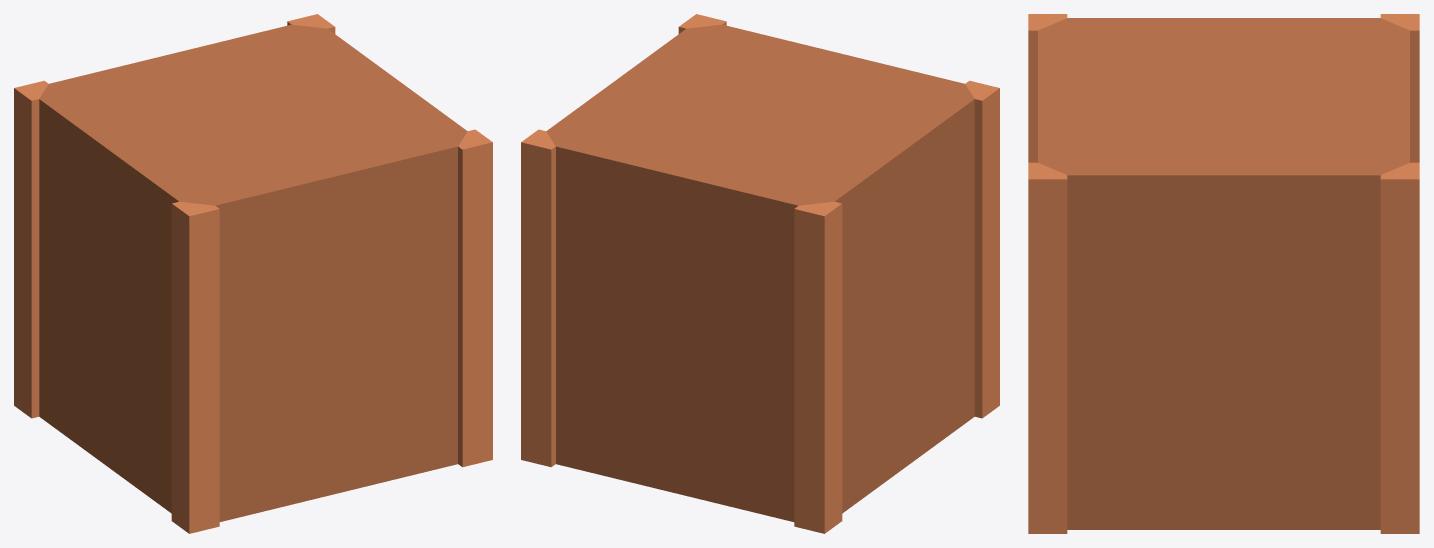
Rendered from wallWoodBlock.fbx.
3 views of the same model, side by side, from view 1: azimuth 30°, elevation 25°; view 2: azimuth 150°, elevation 25°; view 3: azimuth 270°, elevation 25° (orthographic). The views are drawn at different scales.
Visible parts, largest first — view 1: wallWoodBlock; view 2: wallWoodBlock; view 3: wallWoodBlock.
Part boxes in pixels (x1,y1,x2,y2): wallWoodBlock: [14, 14, 492, 533]; wallWoodBlock: [521, 14, 999, 533]; wallWoodBlock: [1028, 14, 1419, 533].
Bounding box in the file's own units: 10 × 10 × 10.
